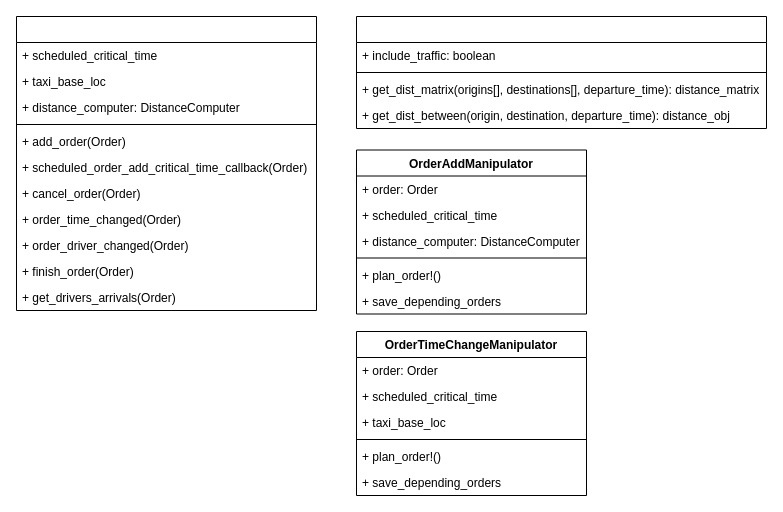
Some shapes in this 783 by 512 pixel diagram are drawn without their labels. Here are the shapes that lost their labels. From the top down, the box of each, then its label:
(356, 16, 766, 128): DistanceComputer
(16, 16, 316, 310): Scheduler
